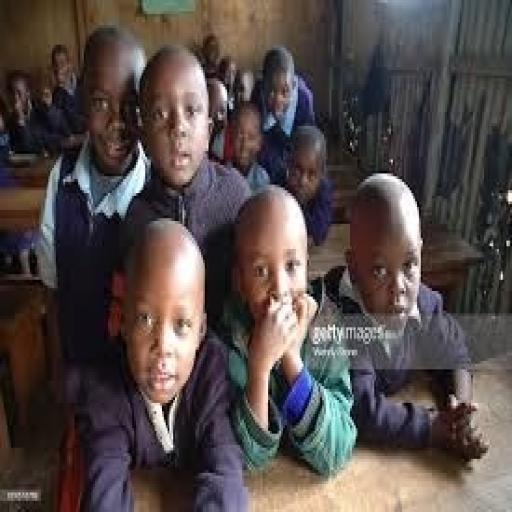sitting: (6, 22, 488, 501)
